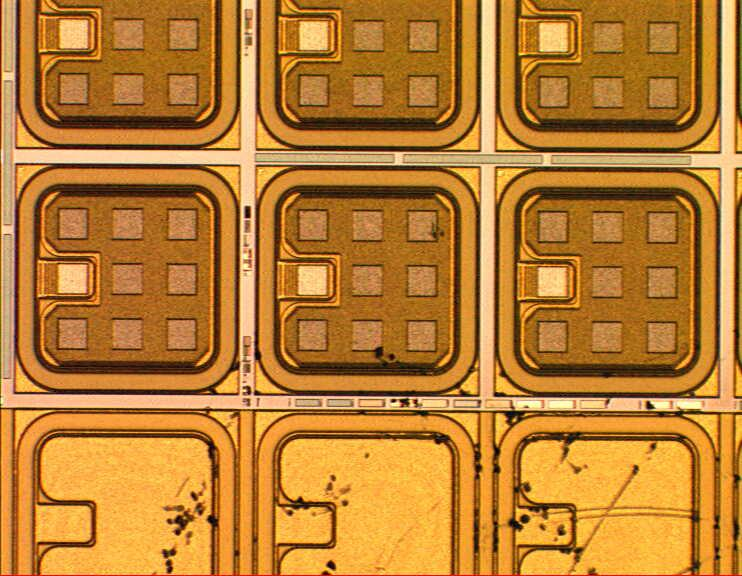SCRATCH: (143, 343, 742, 576)
